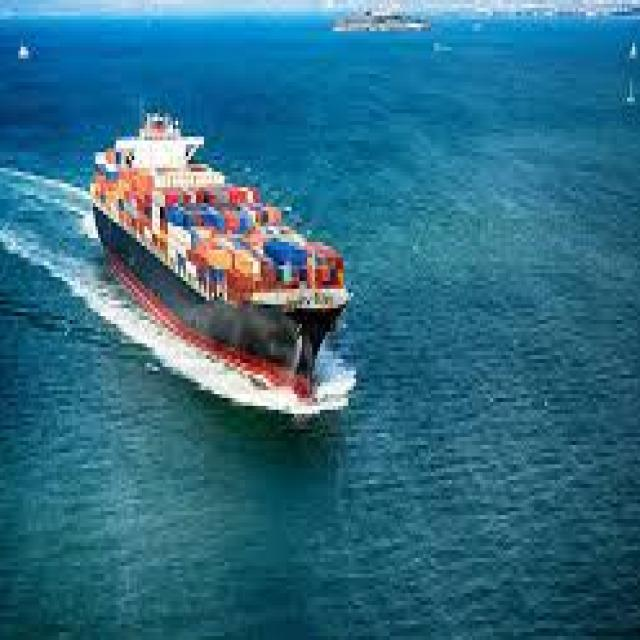cargoship: (94, 101, 345, 397)
